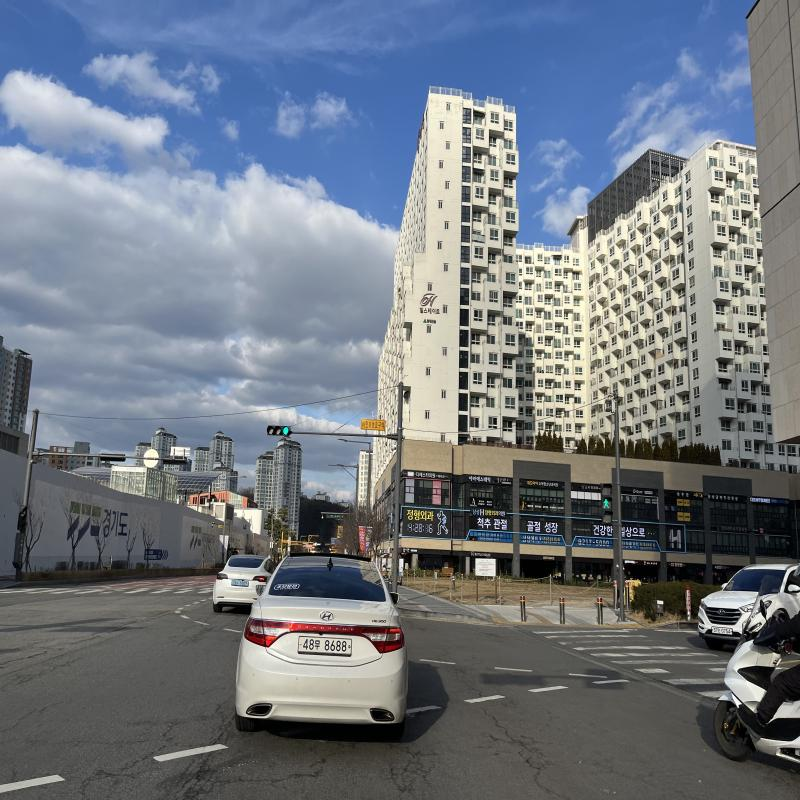green: (282, 426, 290, 434)
